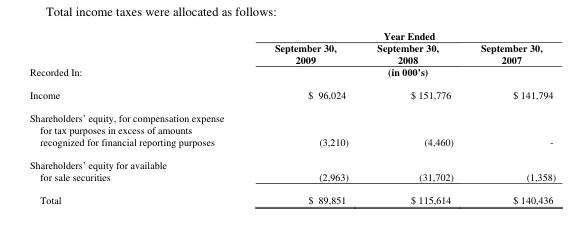table: (29, 28, 555, 206)
table column: (29, 28, 243, 206), (243, 28, 362, 206), (362, 28, 466, 206), (466, 28, 555, 206)
table column header: (29, 28, 555, 83)
table projected row header: (29, 106, 555, 123), (29, 152, 555, 169), (29, 123, 555, 135)
table row: (29, 41, 555, 83), (29, 83, 555, 106), (29, 187, 555, 206), (29, 169, 555, 187), (29, 106, 555, 123), (29, 135, 555, 152), (29, 152, 555, 169), (29, 28, 555, 41), (29, 123, 555, 135)
table spanning cell: (29, 28, 243, 83), (243, 28, 555, 41)
